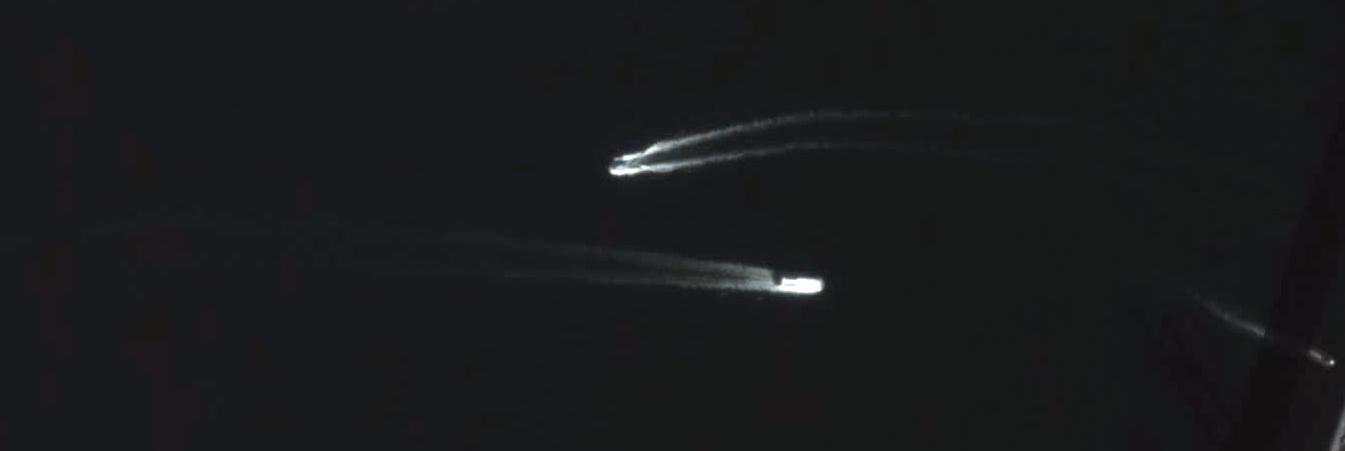person: (780, 277, 825, 295), (1306, 347, 1336, 369), (610, 160, 626, 168)
